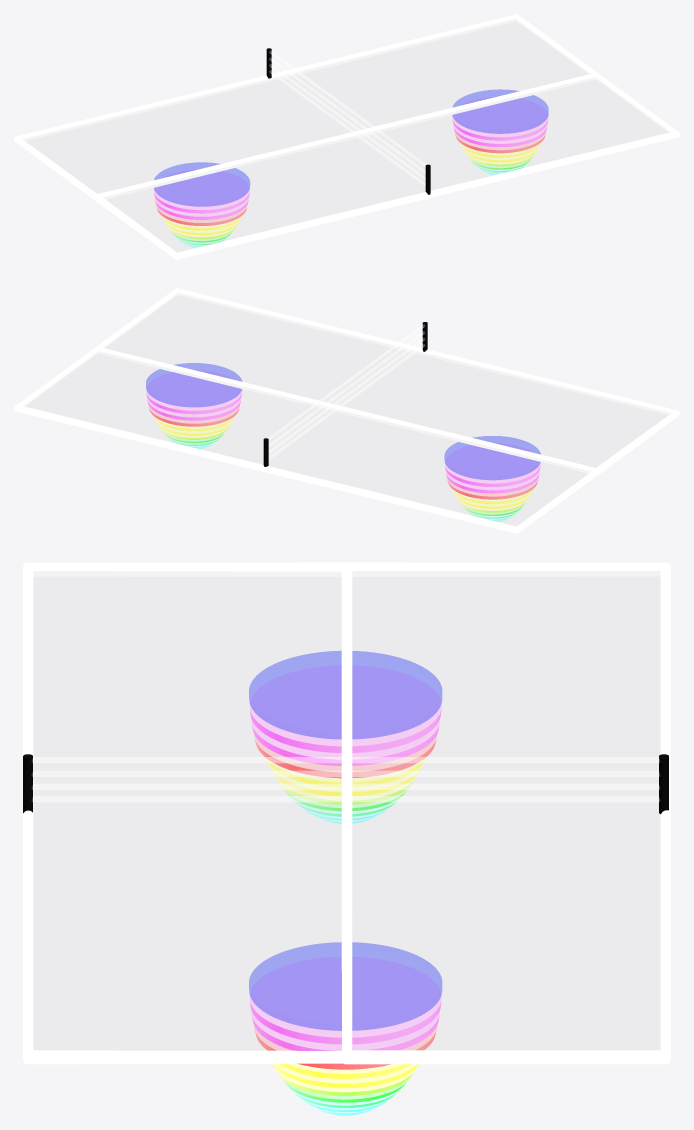
Rendered from table_leg.glb.
3 renders of one model, top to bottom at view 1: azimuth 30°, elevation 25°; view 2: azimuth 150°, elevation 25°; view 3: azimuth 270°, elevation 25°, orthographic. The views are drawn at different scales.
Parts seen in each view (by area): view 1: piano, Cube, sfera2, sfera2.001, sfera1, sfera1.001, rete, sfera3.001, sfera3, sfera4, sfera4.001; view 2: piano, Cube, sfera2, sfera2.001, sfera1, sfera1.001, rete, sfera3, sfera3.001, sfera4, sfera4.001, sfera6 (+1 smaller); view 3: piano, Cube, rete, sfera1, sfera1.001, sfera2, sfera2.001, sfera3.001, sfera4.001, sfera3, sfera7, sfera6.001 (+6 smaller).
Part boxes in pixels (bbox=[...]): piano: bbox=[23, 19, 668, 252]; Cube: bbox=[14, 14, 679, 259]; sfera2: bbox=[452, 97, 548, 140]; sfera2.001: bbox=[154, 170, 249, 213]; sfera1: bbox=[452, 89, 548, 133]; sfera1.001: bbox=[154, 162, 249, 206]; rete: bbox=[269, 51, 426, 186]; sfera3.001: bbox=[154, 197, 248, 219]; sfera3: bbox=[453, 124, 547, 146]; sfera4: bbox=[454, 131, 546, 153]; sfera4.001: bbox=[156, 204, 247, 225]; piano: bbox=[25, 293, 670, 526]; Cube: bbox=[14, 288, 679, 533]; sfera2: bbox=[146, 370, 242, 414]; sfera2.001: bbox=[444, 443, 540, 486]; sfera1: bbox=[146, 363, 241, 406]; sfera1.001: bbox=[444, 436, 540, 479]; rete: bbox=[268, 324, 424, 459]; sfera3: bbox=[147, 397, 241, 420]; sfera3.001: bbox=[445, 470, 539, 493]; sfera4: bbox=[148, 405, 239, 426]; sfera4.001: bbox=[447, 478, 538, 499]; sfera6: bbox=[154, 416, 234, 431]; piano: bbox=[33, 571, 660, 1050]; Cube: bbox=[23, 562, 670, 1064]; rete: bbox=[32, 757, 659, 801]; sfera1: bbox=[249, 942, 441, 1030]; sfera1.001: bbox=[249, 651, 441, 738]; sfera2: bbox=[249, 957, 441, 1044]; sfera2.001: bbox=[249, 665, 441, 752]; sfera3.001: bbox=[251, 719, 439, 765]; sfera4.001: bbox=[254, 734, 437, 778]; sfera3: bbox=[251, 1010, 439, 1050]; sfera7: bbox=[272, 1063, 418, 1087]; sfera6.001: bbox=[265, 758, 425, 787].
Size of the model in its own units: 4.79 by 0.9293 by 2.66.
